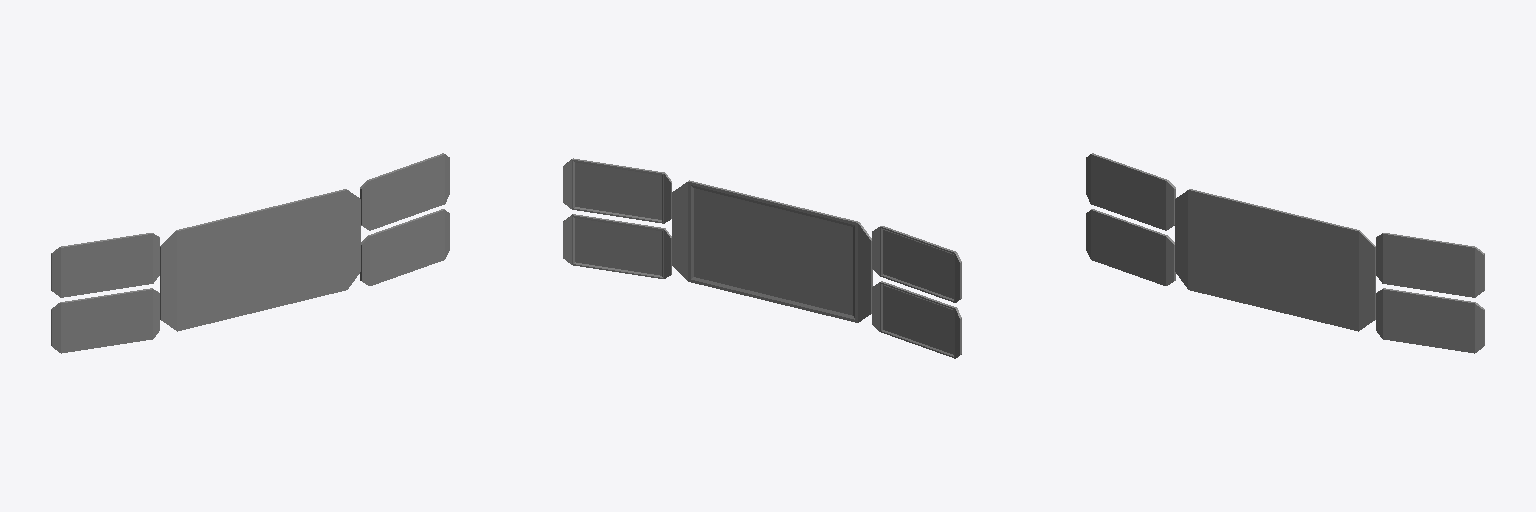
File: VideoWall.obj
The picture shows the model from 3 angles: view 1: azimuth 30°, elevation 25°; view 2: azimuth 150°, elevation 25°; view 3: azimuth 330°, elevation 25°; orthographic projection.
Parts seen in each view (by area): view 1: SM_VideoWall_E; view 2: SM_VideoWall_E; view 3: SM_VideoWall_E.
Part boxes in pixels (left/top/right/bottom): SM_VideoWall_E: left=51, top=153, right=449, bottom=353; SM_VideoWall_E: left=563, top=158, right=961, bottom=358; SM_VideoWall_E: left=1086, top=153, right=1484, bottom=353.
Bounding box in the file's own units: 354 × 89.76 × 19.99.